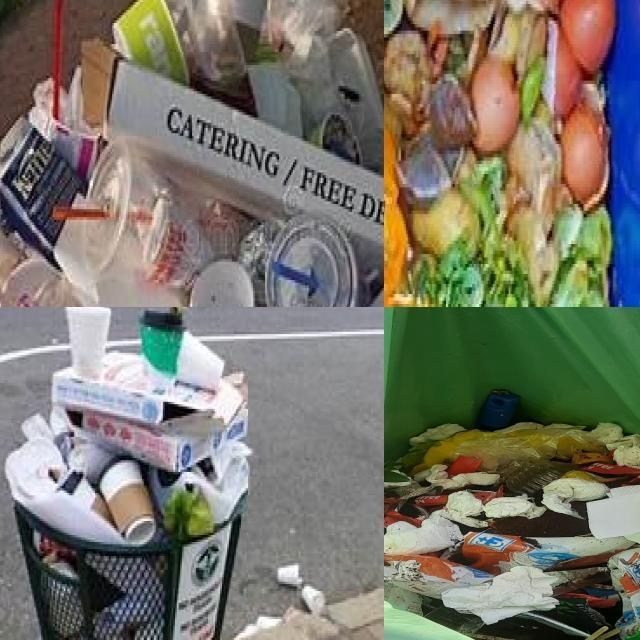Disposable: (56, 139, 209, 291), (266, 216, 357, 307), (166, 0, 246, 95), (0, 258, 79, 307), (498, 459, 578, 495), (421, 596, 484, 634)
Garbage: (0, 0, 384, 307), (384, 0, 618, 307), (6, 307, 250, 543), (384, 422, 640, 640)
Plastic_Bag: (461, 532, 634, 574), (455, 425, 608, 470), (384, 554, 492, 615), (608, 549, 640, 638), (515, 611, 591, 637)
Plastic_Container: (112, 0, 190, 83)
Plastic_Straw: (52, 0, 64, 119), (52, 206, 111, 220)
Plastic_bottle: (138, 310, 182, 376)
Plastic_wraper: (384, 486, 444, 527), (623, 475, 640, 486)
